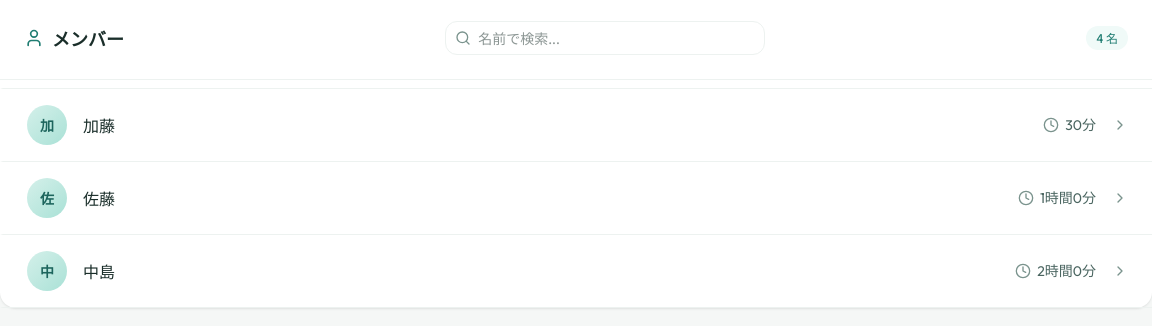
Test case: MemberList › インクリメンタルサーチ › 検索文字列を含むメンバーのみ表示されること（部分一致）
The image size is (1152, 326).
Type "加藤" into the field with placeholder "名前で検索...". click: [605, 38]
box: [445,21,765,55]
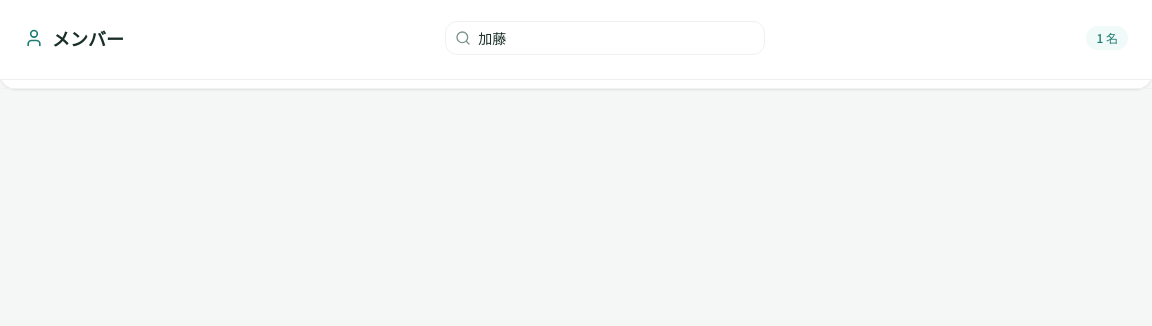
Expected: the heading "加藤" is shown, [83,40,115,64]
Expected: the number of elements with test id "member-row" is 1, [0,16,1151,89]
